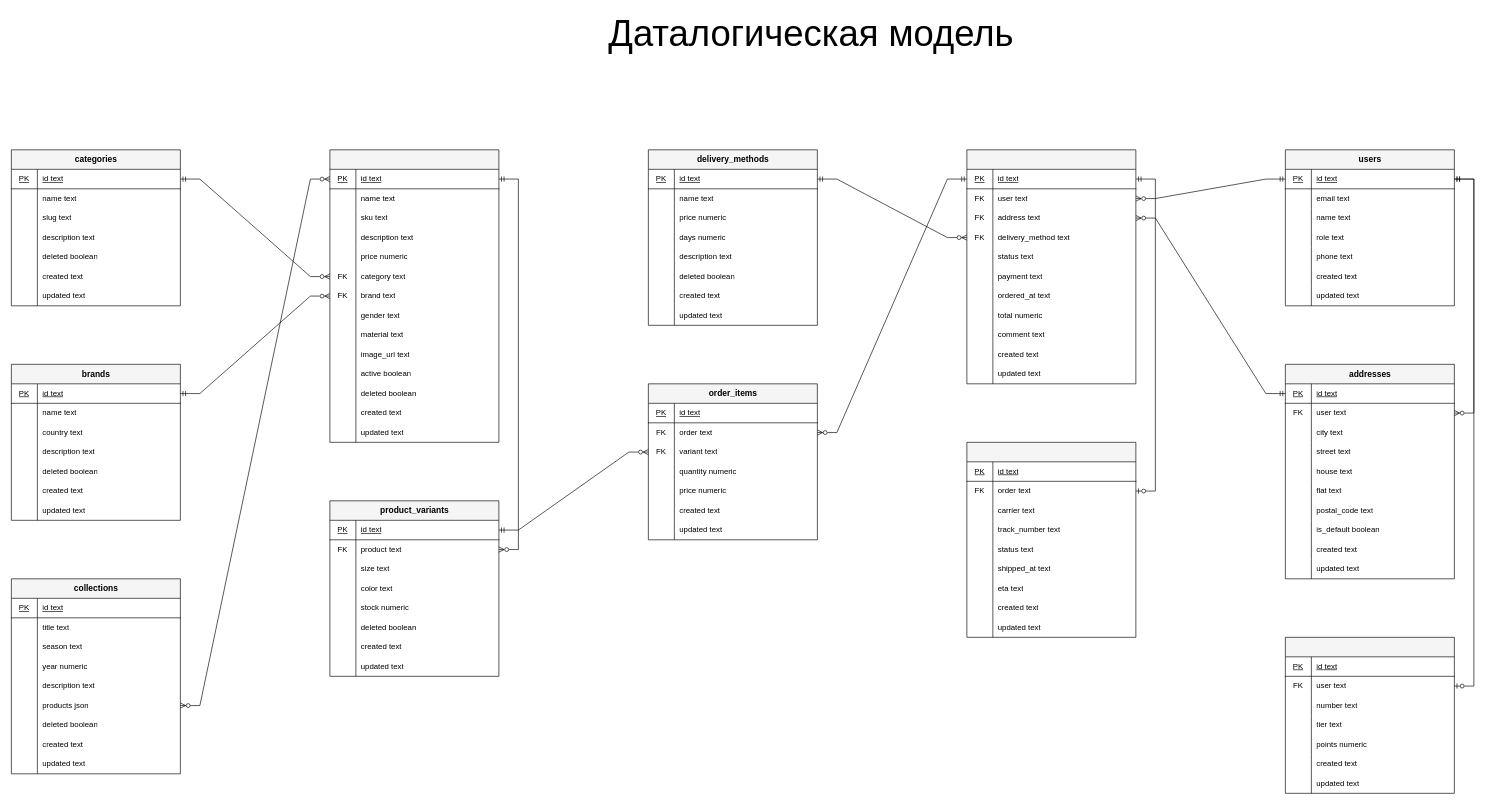
Some shapes in this 1491 by 805 pixel diagram are drawn without their labels. The shapes that lost their labels are listed below. From the top down, each one's box as (x1, y1, x2, y2) in pixels, then its label:
(966, 149, 1136, 384): orders
(329, 149, 499, 442): products
(966, 442, 1136, 637): deliveries
(1285, 637, 1454, 793): loyalty_cards
